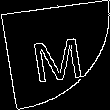M_N: (25, 26, 85, 84)
